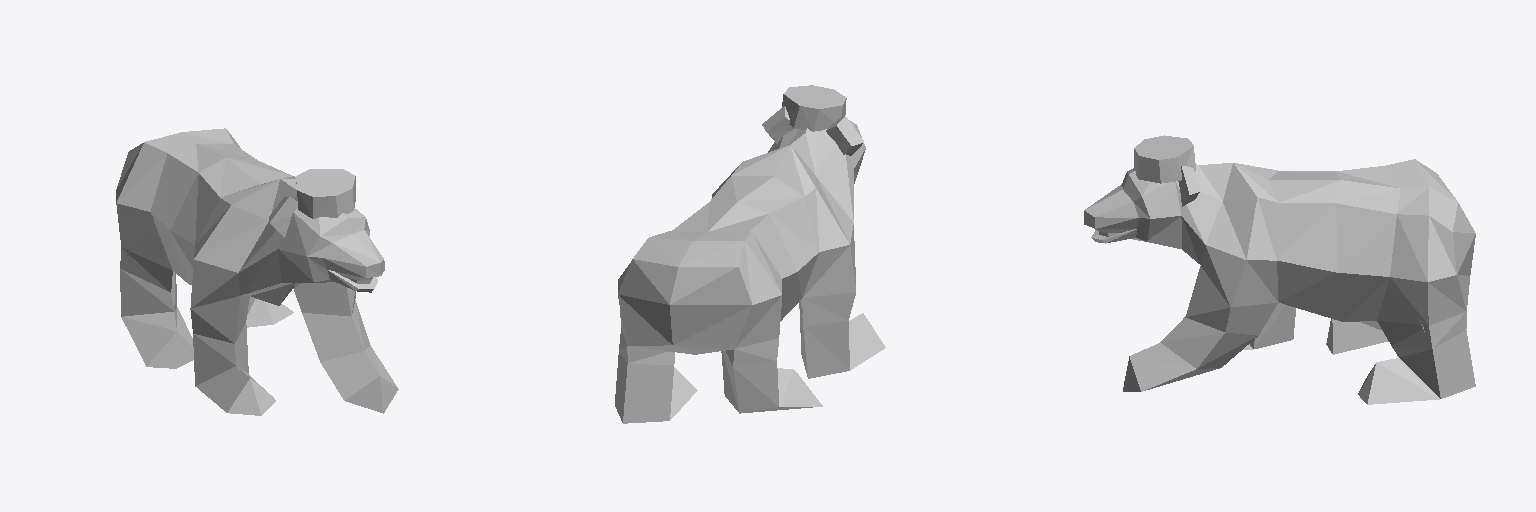
The model's file is Karhu_000004.obj.
3 renders of one model, left to right at view 1: azimuth 30°, elevation 25°; view 2: azimuth 150°, elevation 25°; view 3: azimuth 270°, elevation 25°, orthographic.
Visible parts, largest first — view 1: Karhu_Plane.003; view 2: Karhu_Plane.003; view 3: Karhu_Plane.003.
Boxes of the visible parts, <box> form: Karhu_Plane.003: <box>116,128,398,415</box>; Karhu_Plane.003: <box>615,85,885,423</box>; Karhu_Plane.003: <box>1084,135,1475,404</box>.
Bounding box in the file's own units: 3.2 × 4.3 × 6.59.